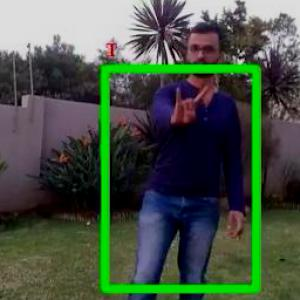takeoff-hand: (165, 79, 210, 130)
